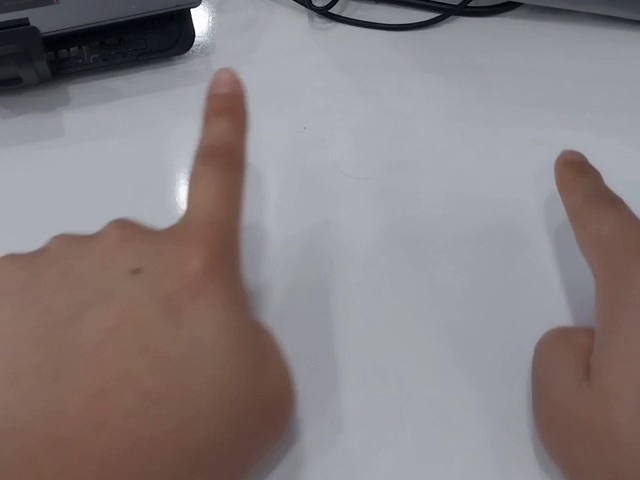fingers: (202, 67, 249, 118), (553, 148, 604, 194)
